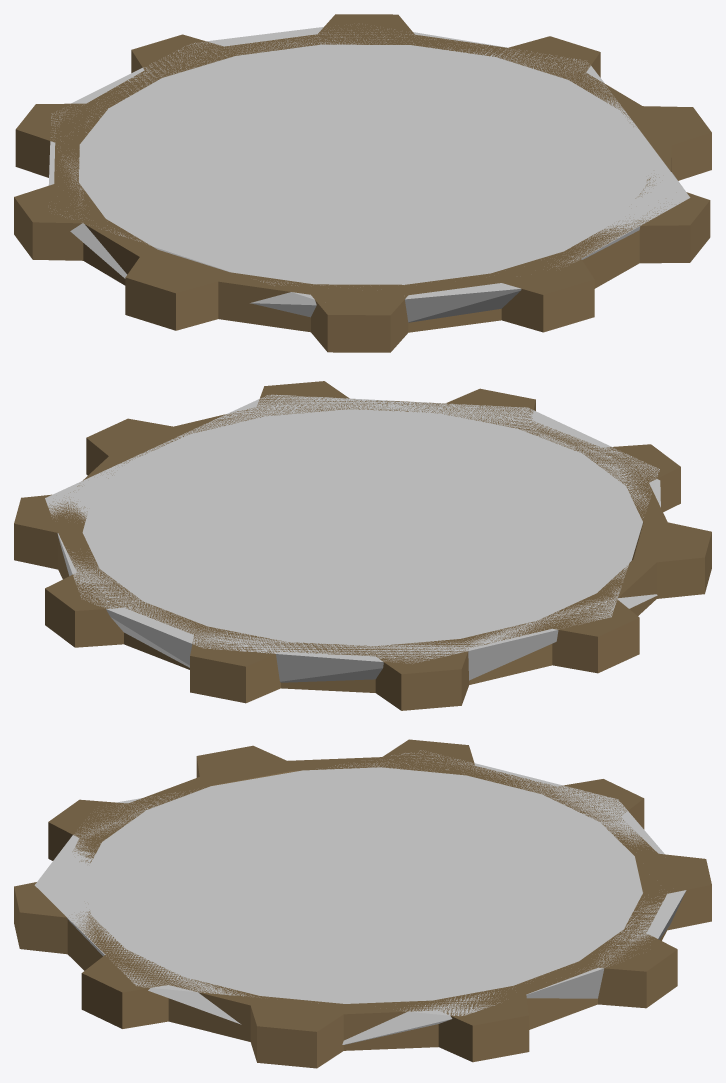
The model's file is SM_Bld_Planetarium_01_Gear_01.fbx.
3 renders of one model, top to bottom at view 1: azimuth 30°, elevation 25°; view 2: azimuth 150°, elevation 25°; view 3: azimuth 270°, elevation 25°, orthographic. The views are drawn at different scales.
Visible parts, largest first — view 1: SM_Bld_Planetarium_01_Gear_01_ConvexHulls, SM_Bld_Planetarium_01_Gear_01; view 2: SM_Bld_Planetarium_01_Gear_01_ConvexHulls, SM_Bld_Planetarium_01_Gear_01; view 3: SM_Bld_Planetarium_01_Gear_01_ConvexHulls, SM_Bld_Planetarium_01_Gear_01.
Boxes of the visible parts, x1,y1,x2,y2 form: SM_Bld_Planetarium_01_Gear_01_ConvexHulls: [48, 27, 690, 322]; SM_Bld_Planetarium_01_Gear_01: [14, 14, 711, 352]; SM_Bld_Planetarium_01_Gear_01_ConvexHulls: [45, 394, 660, 682]; SM_Bld_Planetarium_01_Gear_01: [14, 381, 711, 710]; SM_Bld_Planetarium_01_Gear_01_ConvexHulls: [34, 750, 686, 1044]; SM_Bld_Planetarium_01_Gear_01: [14, 739, 711, 1068].
Bounding box in the file's own units: 166 × 168 × 9.71.
Materials: 2 (1 with a texture image).
